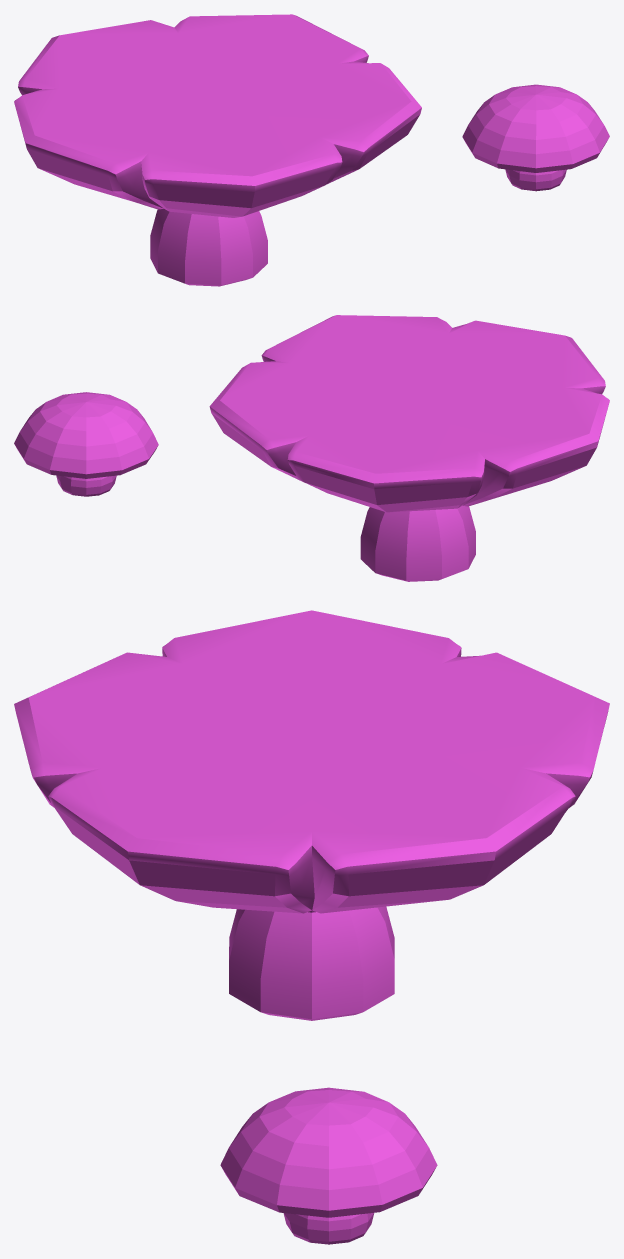
File: mesa_cadeira_cogumelo.fbx
3 views of the same model, one above another, from view 1: azimuth 30°, elevation 25°; view 2: azimuth 150°, elevation 25°; view 3: azimuth 270°, elevation 25° (orthographic). The views are drawn at different scales.
Visible parts, largest first — view 1: Mesa_cogumelo_2_oficial2, cadeira_cogumelo; view 2: Mesa_cogumelo_2_oficial2, cadeira_cogumelo; view 3: Mesa_cogumelo_2_oficial2, cadeira_cogumelo.
Boxes of the visible parts, bbox=[...] form: Mesa_cogumelo_2_oficial2: bbox=[14, 14, 421, 286]; cadeira_cogumelo: bbox=[462, 84, 609, 191]; Mesa_cogumelo_2_oficial2: bbox=[209, 315, 609, 581]; cadeira_cogumelo: bbox=[14, 392, 158, 496]; Mesa_cogumelo_2_oficial2: bbox=[14, 610, 609, 1020]; cadeira_cogumelo: bbox=[220, 1087, 437, 1244].
Size of the model in its own units: 176 by 50.25 by 107.
